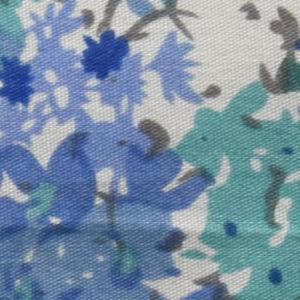Wrinkle: (1, 213, 300, 252)
